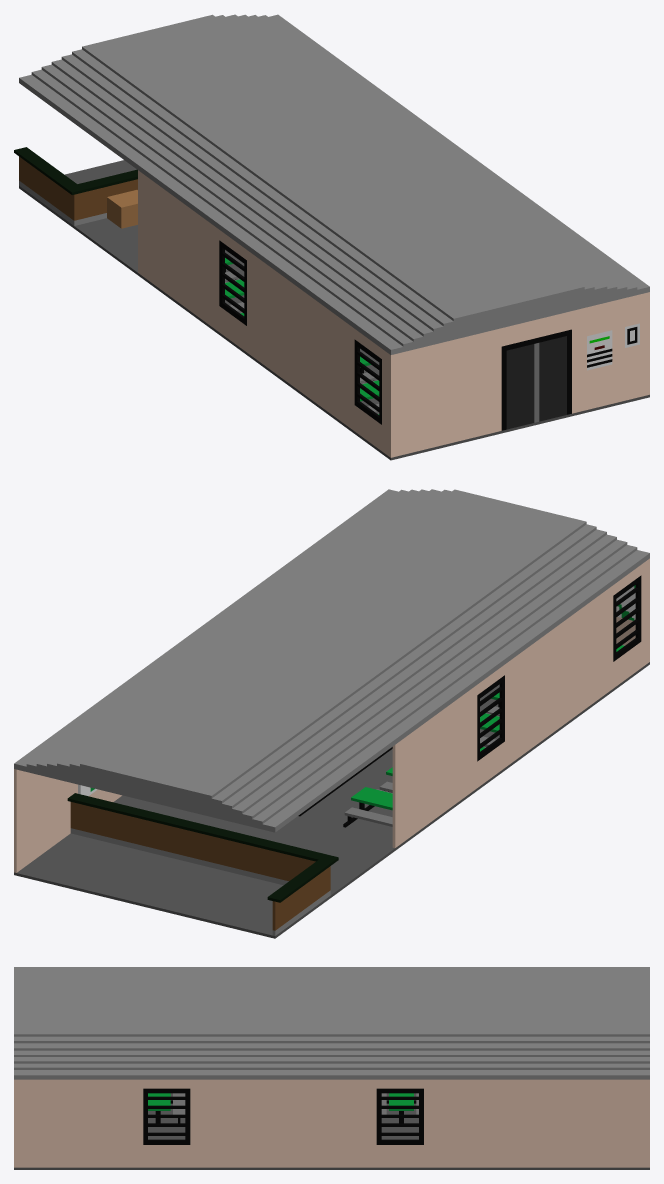
Rendered from messfull.obj.
The picture shows the model from 3 angles, top to bottom: view 1: azimuth 30°, elevation 25°; view 2: azimuth 150°, elevation 25°; view 3: azimuth 270°, elevation 25°; orthographic projection. The views are drawn at different scales.
Bounding box in the file's own units: 10.5 × 4.8 × 25.6.
Materials: 1 (1 with a texture image).
